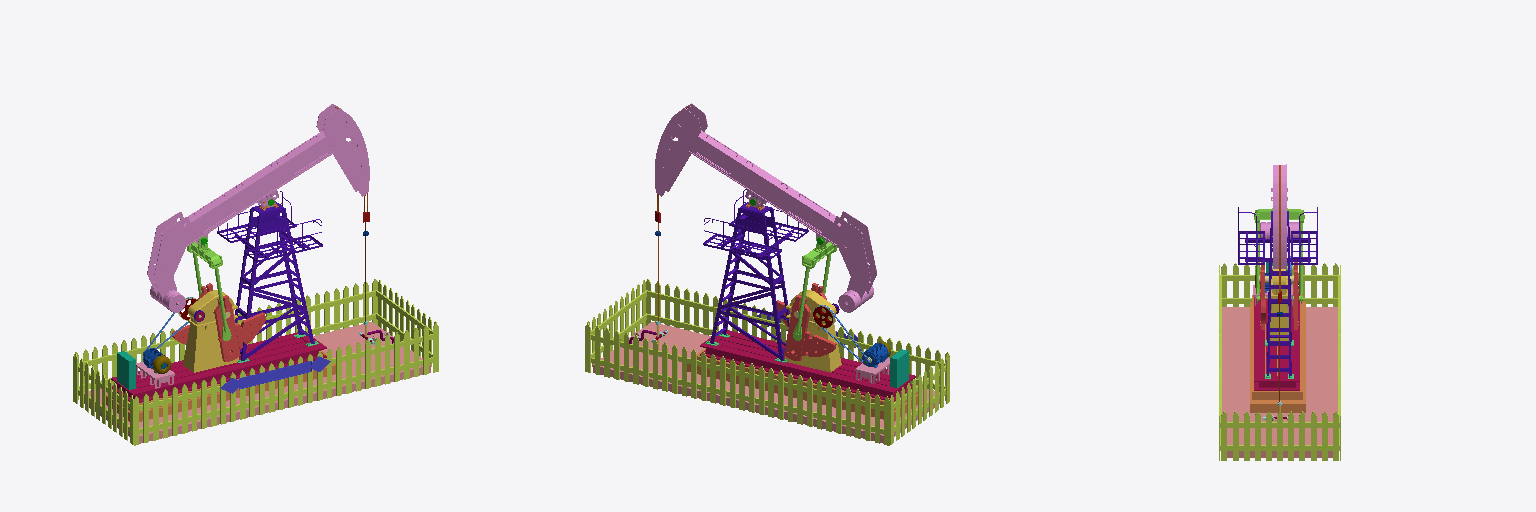
The picture shows the model from 3 angles: view 1: azimuth 30°, elevation 25°; view 2: azimuth 150°, elevation 25°; view 3: azimuth 270°, elevation 25°; orthographic projection.
Visible parts, largest first — view 1: Rectangle13, Line01, ??04, Rectangle08, Rectangle01, Rectangle12, Rectangle03, Rectangle70, Rectangle10, Rectangle15, Rectangle93, Rectangle11 (+2 smaller); view 2: Rectangle13, Line01, ??04, Rectangle08, Rectangle01, Rectangle12, Rectangle70, Rectangle10, Rectangle03, Rectangle93, Rectangle04, Rectangle67; view 3: Rectangle08, Rectangle13, Rectangle01, Line01, ??04, Rectangle70, Rectangle93, Rectangle14, Rectangle10, Rectangle12.
Part boxes in pixels (x1,y1,x2,y2): Rectangle13: (73, 279, 438, 445); Line01: (147, 104, 369, 312); ??04: (235, 201, 314, 360); Rectangle08: (84, 322, 430, 443); Rectangle01: (111, 332, 326, 402); Rectangle12: (172, 283, 265, 361); Rectangle03: (183, 314, 238, 372); Rectangle70: (217, 191, 322, 262); Rectangle10: (187, 236, 231, 340); Rectangle15: (222, 357, 328, 391); Rectangle93: (106, 352, 335, 421); Rectangle11: (188, 290, 237, 324); Rectangle13: (585, 279, 949, 445); Line01: (655, 103, 876, 312); ??04: (710, 202, 789, 360); Rectangle08: (593, 322, 939, 443); Rectangle01: (700, 330, 915, 401); Rectangle12: (777, 283, 836, 360); Rectangle70: (703, 189, 808, 260); Rectangle10: (793, 236, 837, 340); Rectangle03: (785, 314, 841, 372); Rectangle93: (687, 352, 917, 421); Rectangle04: (890, 349, 908, 387); Rectangle67: (717, 340, 889, 385); Rectangle08: (1222, 307, 1337, 457); Rectangle13: (1219, 263, 1340, 460); Rectangle01: (1254, 286, 1299, 390); Line01: (1260, 164, 1298, 269); ??04: (1267, 211, 1291, 376); Rectangle70: (1238, 207, 1317, 264); Rectangle93: (1250, 302, 1305, 412); Rectangle14: (1252, 295, 1302, 399); Rectangle10: (1254, 208, 1304, 303); Rectangle12: (1260, 262, 1298, 329).
Bounding box in the file's own units: 1042 × 853 × 363.